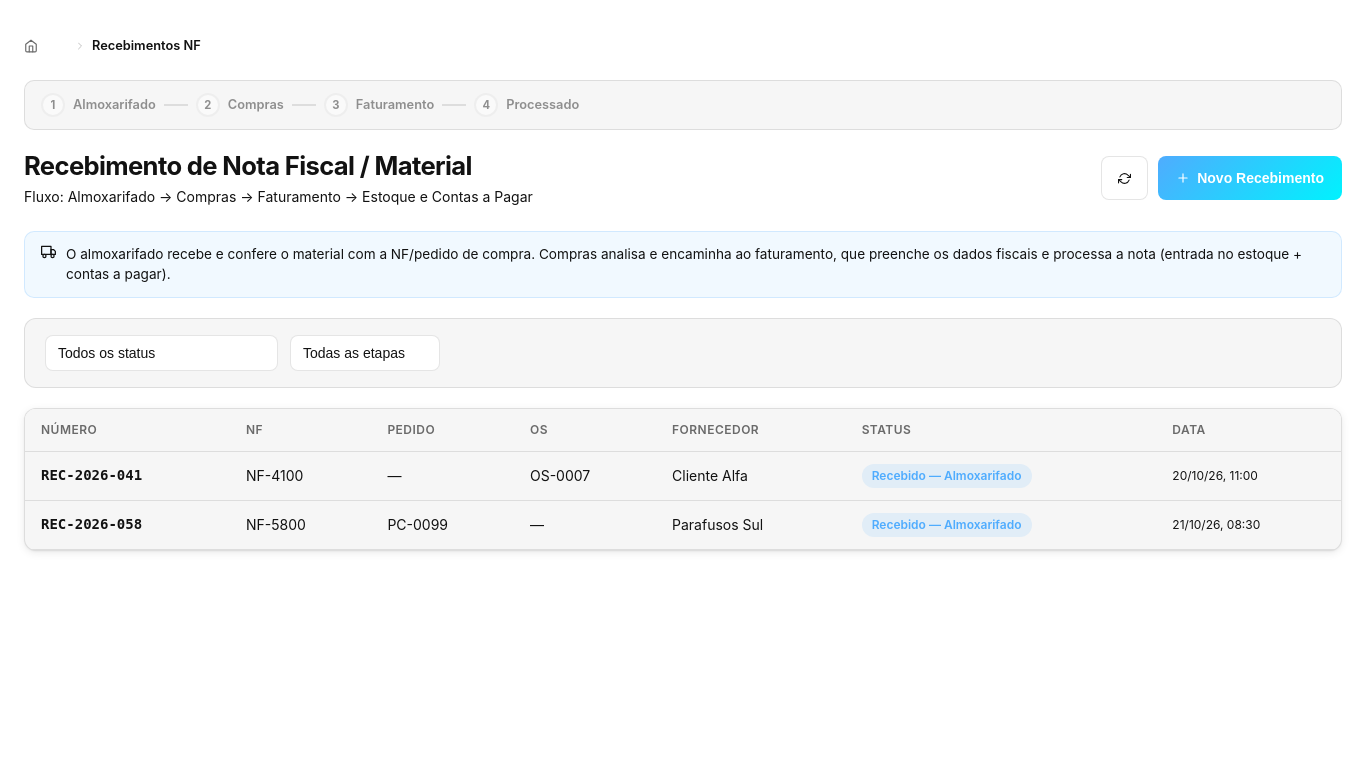
(a) abrir o novo recebimento carrega as OS ABERTAS (abertas=1) e o select mostra "Sem OS" + numero e cliente
Click the button "Novo Recebimento".
click(1250, 178)  # box x1=1158 y1=156 x2=1342 y2=200
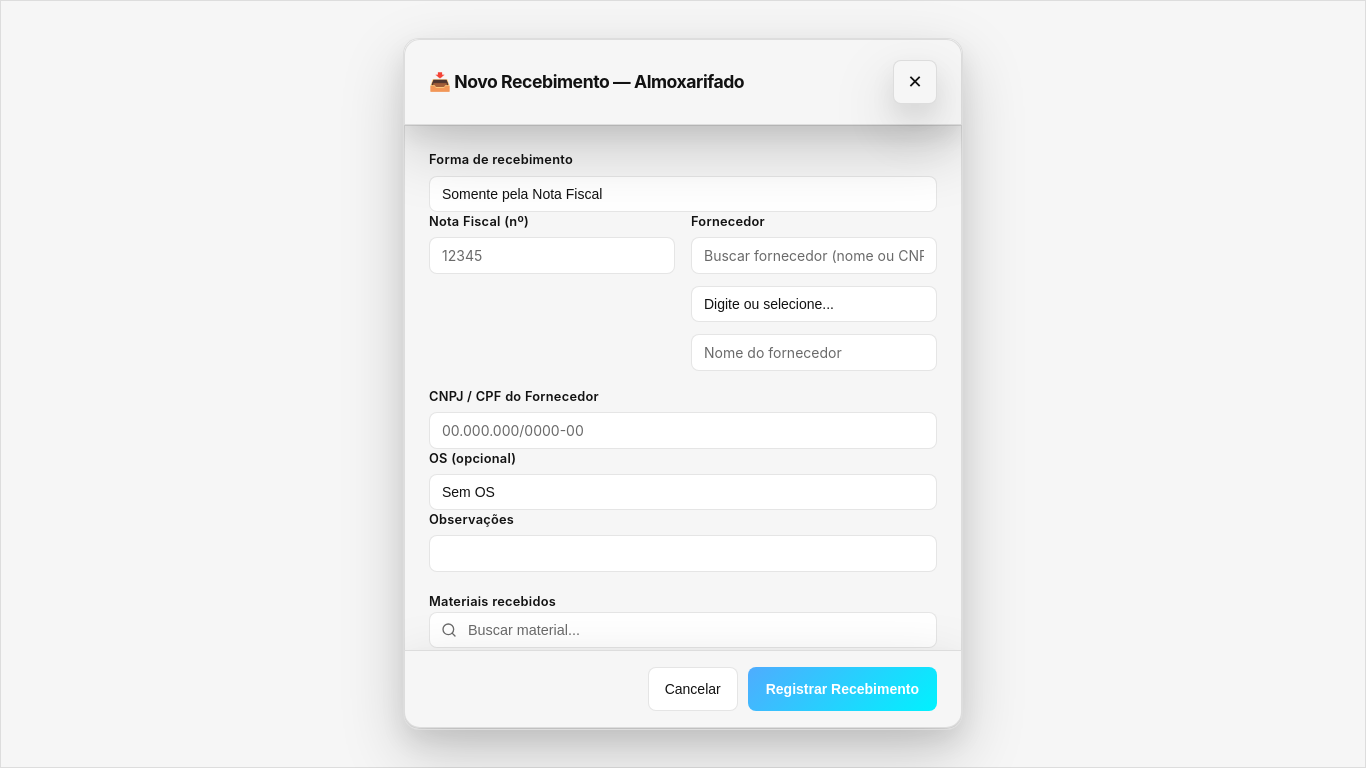
Expected: the dropdown with test id "receb-os" is enabled, x1=429 y1=474 x2=937 y2=510
